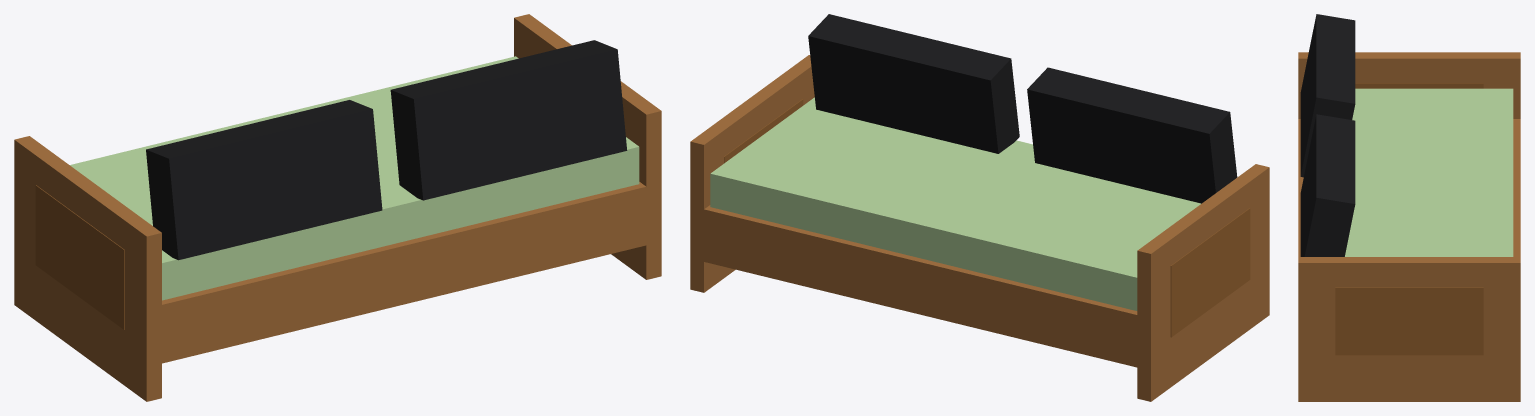
File: daybed.obj
3 views of the same model, side by side, from view 1: azimuth 30°, elevation 25°; view 2: azimuth 150°, elevation 25°; view 3: azimuth 270°, elevation 25° (orthographic). The views are drawn at different scales.
Visible parts, largest first — view 1: daybed_0, daybed_3, daybed_2, daybed_1, daybed_4, daybed_5, daybed_6; view 2: daybed_1, daybed_0, daybed_3, daybed_2, daybed_4, daybed_6, daybed_5, daybed_7; view 3: daybed_1, daybed_6, daybed_7, daybed_3, daybed_4, daybed_2, daybed_0, daybed_5.
Boxes of the visible parts, x1=… form: daybed_0: x1=155, y1=182, x2=646, y2=364; daybed_3: x1=390, y1=40, x2=627, y2=200; daybed_2: x1=146, y1=100, x2=382, y2=260; daybed_1: x1=70, y1=56, x2=639, y2=300; daybed_4: x1=14, y1=136, x2=161, y2=401; daybed_5: x1=35, y1=185, x2=124, y2=329; daybed_6: x1=514, y1=14, x2=661, y2=279; daybed_1: x1=710, y1=97, x2=1200, y2=310; daybed_0: x1=698, y1=205, x2=1142, y2=368; daybed_3: x1=808, y1=14, x2=1019, y2=153; daybed_2: x1=1027, y1=67, x2=1237, y2=203; daybed_4: x1=1137, y1=164, x2=1269, y2=401; daybed_6: x1=690, y1=55, x2=814, y2=292; daybed_5: x1=1170, y1=208, x2=1250, y2=337; daybed_7: x1=724, y1=99, x2=803, y2=163; daybed_1: x1=1345, y1=88, x2=1513, y2=256; daybed_6: x1=1298, y1=257, x2=1520, y2=401; daybed_7: x1=1335, y1=287, x2=1483, y2=355; daybed_3: x1=1300, y1=114, x2=1355, y2=256; daybed_4: x1=1298, y1=52, x2=1520, y2=118; daybed_2: x1=1300, y1=14, x2=1355, y2=177; daybed_0: x1=1298, y1=119, x2=1520, y2=256; daybed_5: x1=1355, y1=83, x2=1483, y2=88.
Bounding box in the file's own units: 2.03 × 0.8514 × 0.9.
